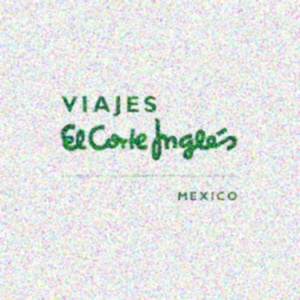corte_ingles: (216, 57, 277, 172)
